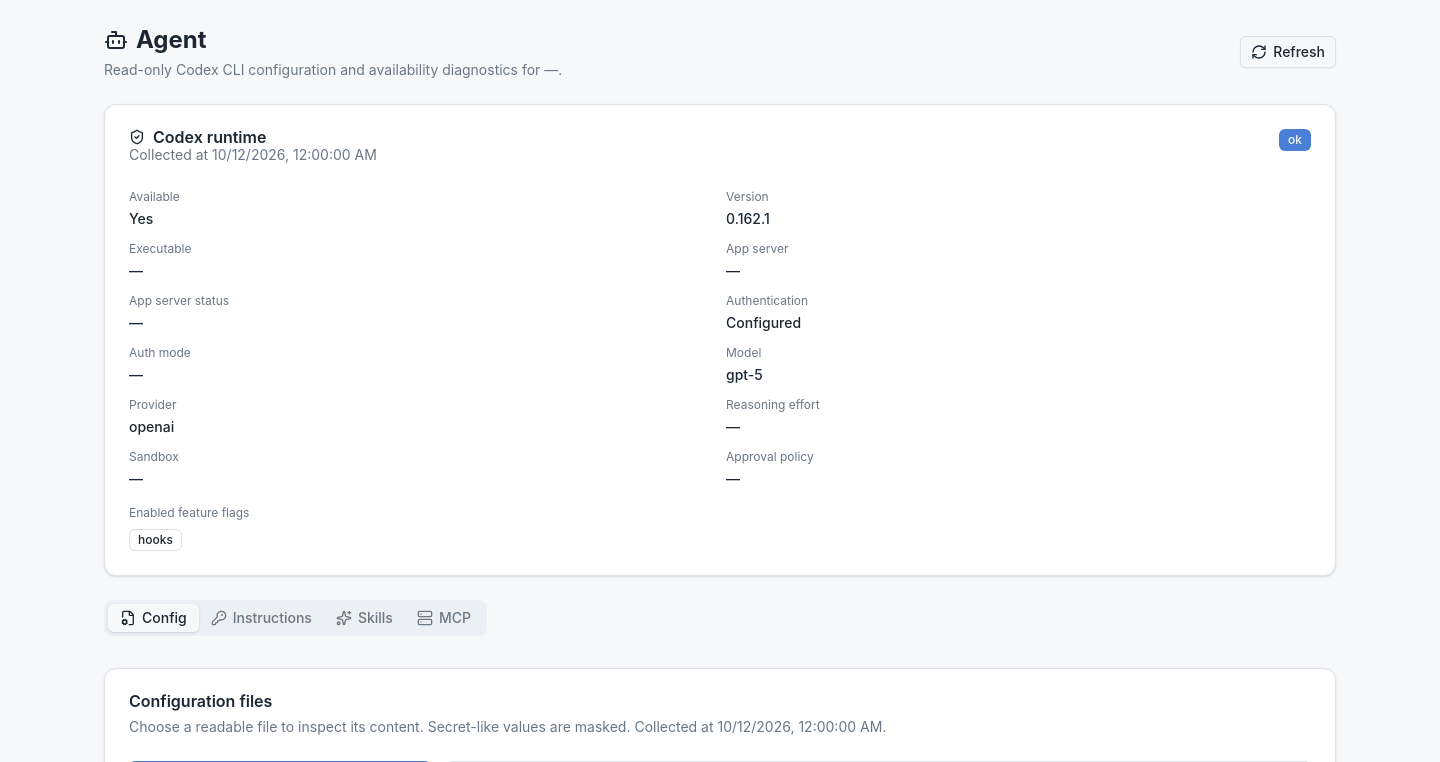
it: CodexDiagnosticsPage › shows when the standard Skill list is truncated
The image size is (1440, 762).
Step 1. Click the tab "Skills" → (364, 618), box left=324, top=604, right=405, bottom=632
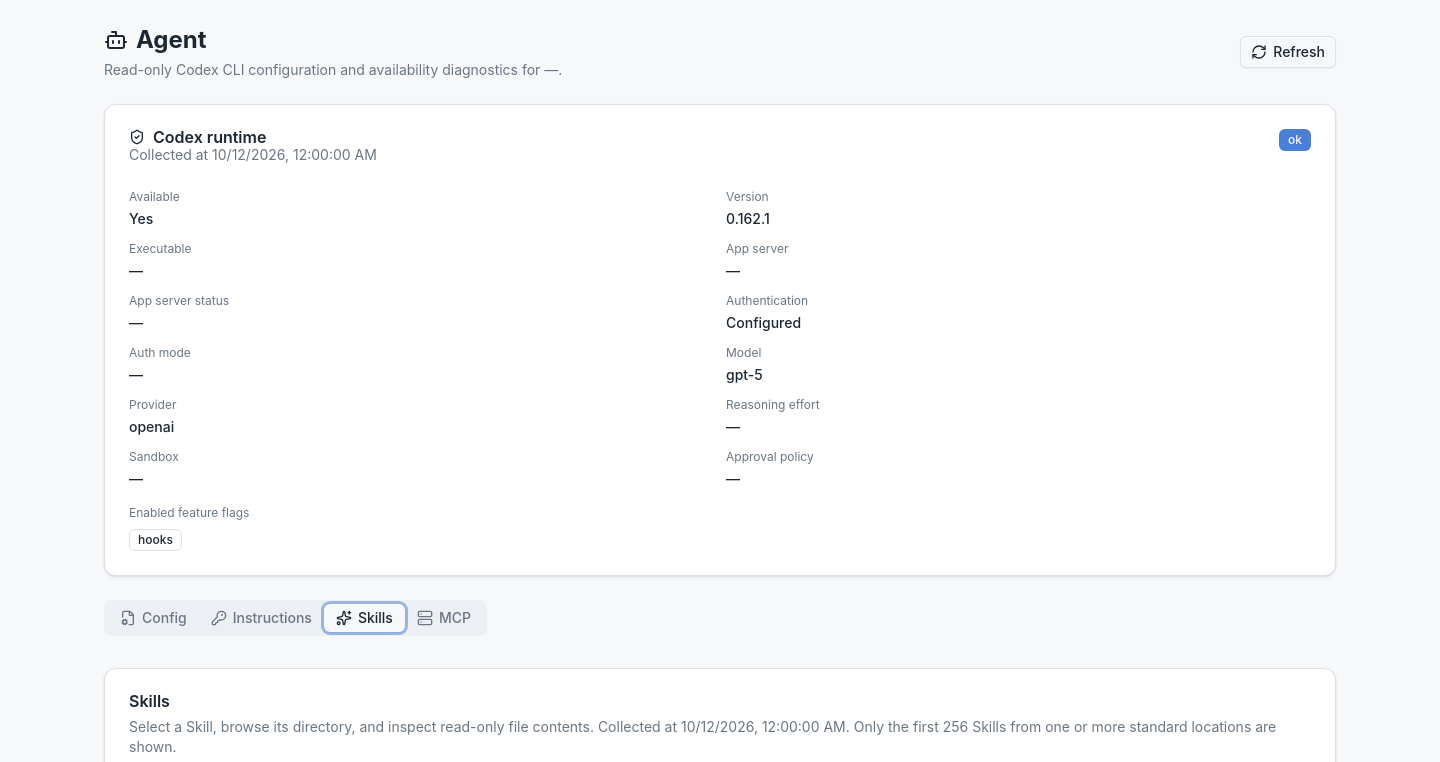
Now the text "Only the first 256 Skills" is shown, box left=129, top=718, right=1276, bottom=755
